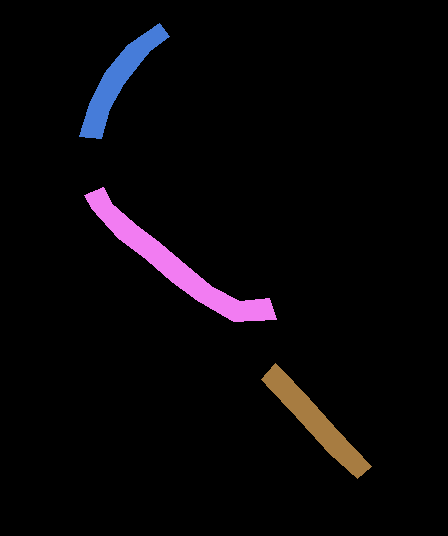parkingspot: (84, 187, 276, 321), (261, 363, 371, 478), (79, 23, 169, 138)
